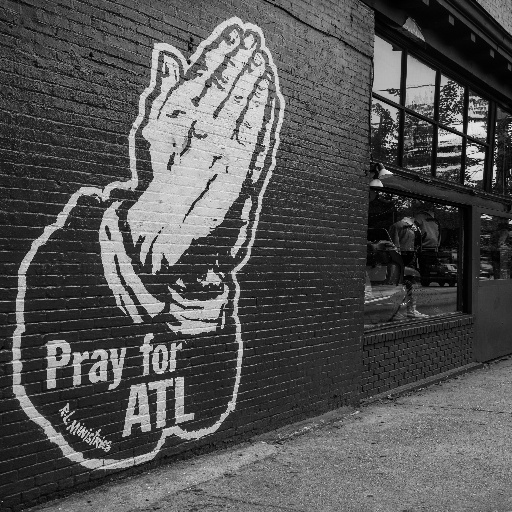hand: (122, 19, 299, 211), (202, 92, 280, 272)
